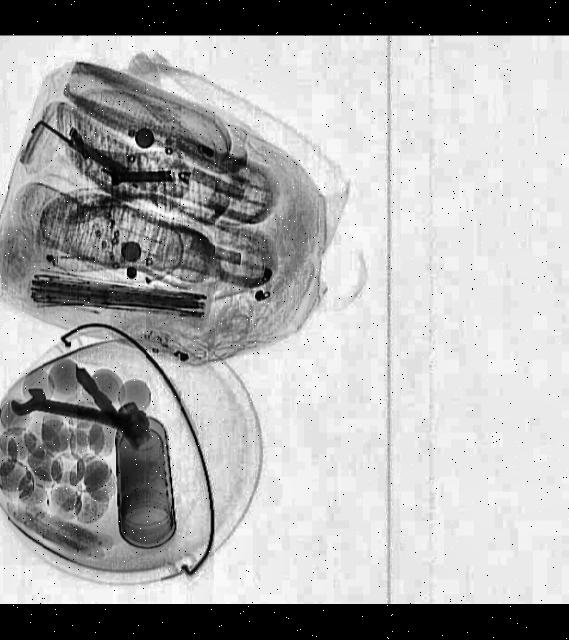Wrench: (7, 382, 152, 438)
